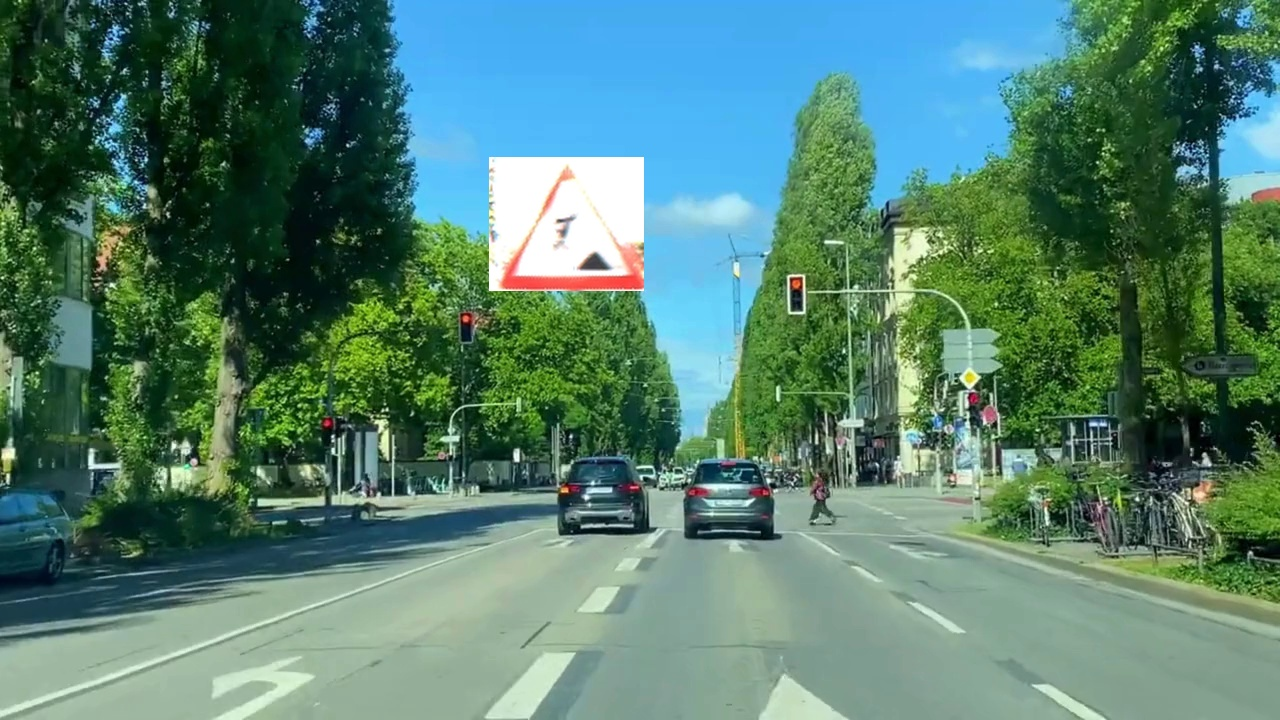Road work: (489, 157, 644, 291)
